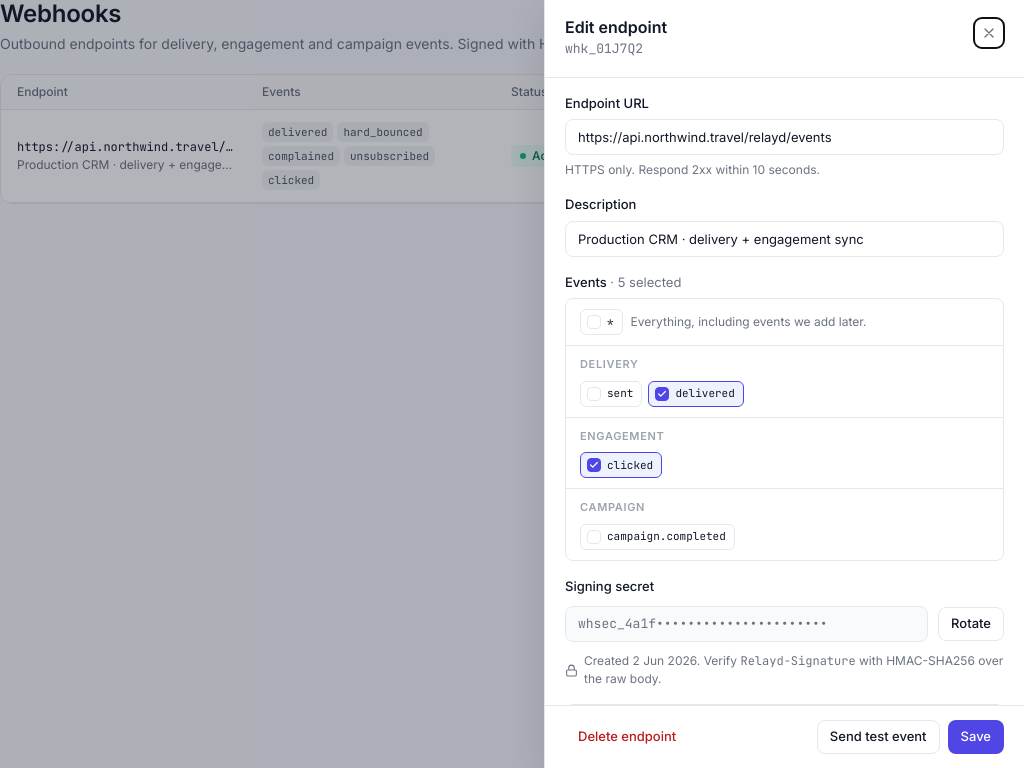
it: J4b — the edit drawer › shows a rotated secret once and explains the 24-hour overlap
This screenshot has width=1024, height=768.
Click the button "Rotate". click: coordinates (971, 624)
box: [938, 607, 1004, 641]
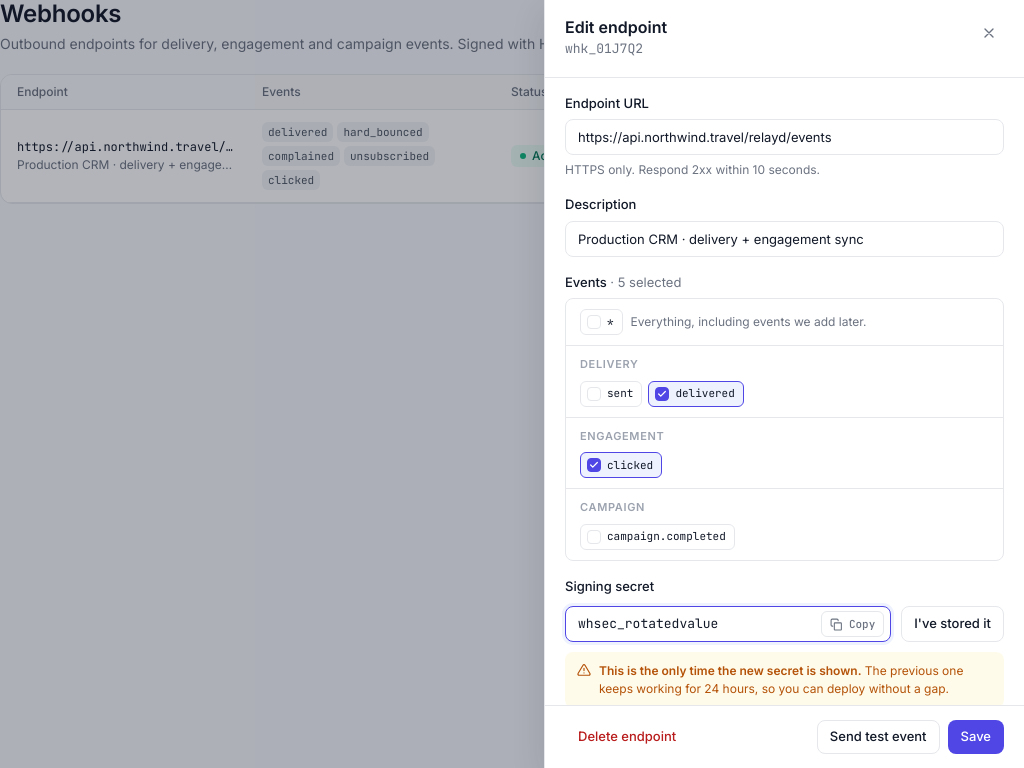
expect the text "whsec_rotatedvalue" is shown: met, box [578, 614, 718, 634]
expect the text "keeps working for 24 hours" is shown: met, box [599, 663, 963, 696]
